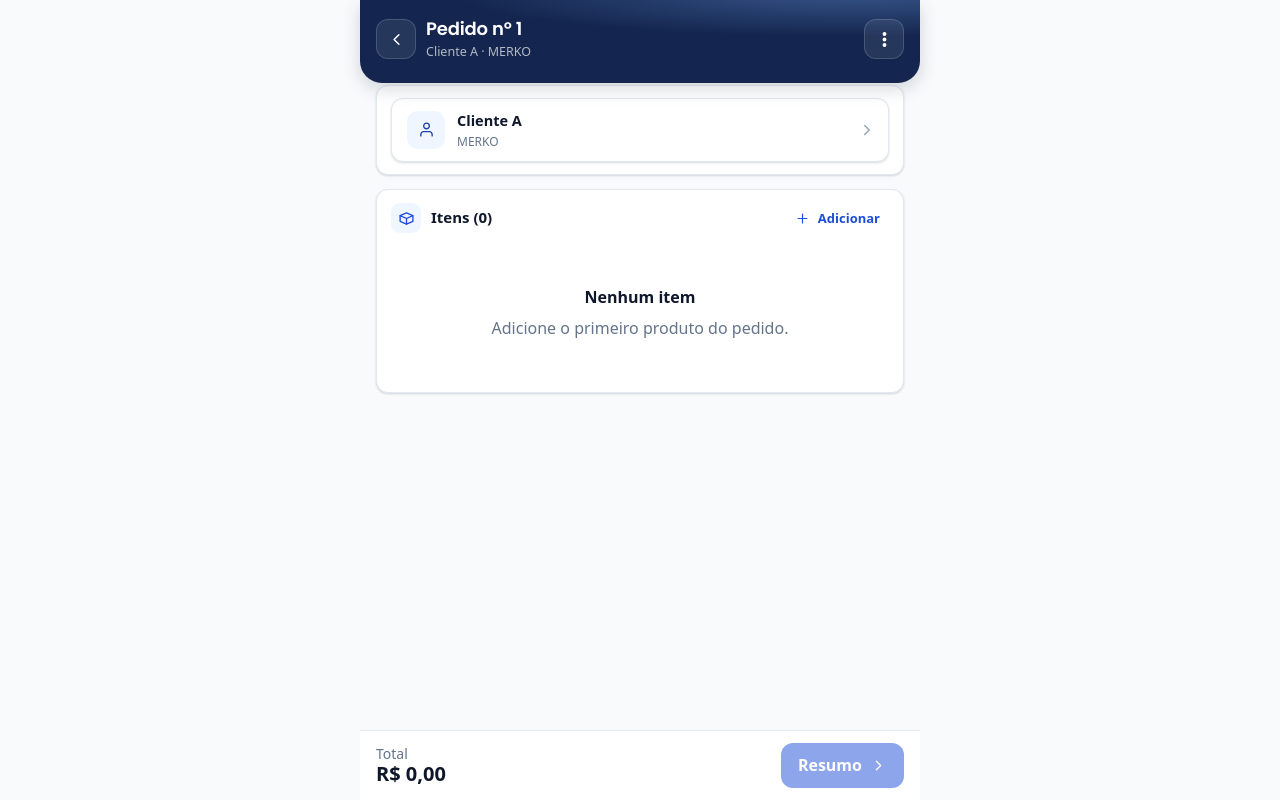
fluxo do pedido › edita marca e troca de cliente pelo botão de edição no primeiro bloco da tela do pedido
The width and height of the screenshot is (1280, 800).
Expected: the text "Cliente A" is shown, [457, 110, 522, 130]
Expected: the text "MERKO" is shown, [457, 133, 499, 150]
A linha de cliente/marca inteira abre a edicao (antes era so o glifo "✎").
Click the button "Cliente A MERKO".
click(426, 130)  # box [391, 98, 889, 162]
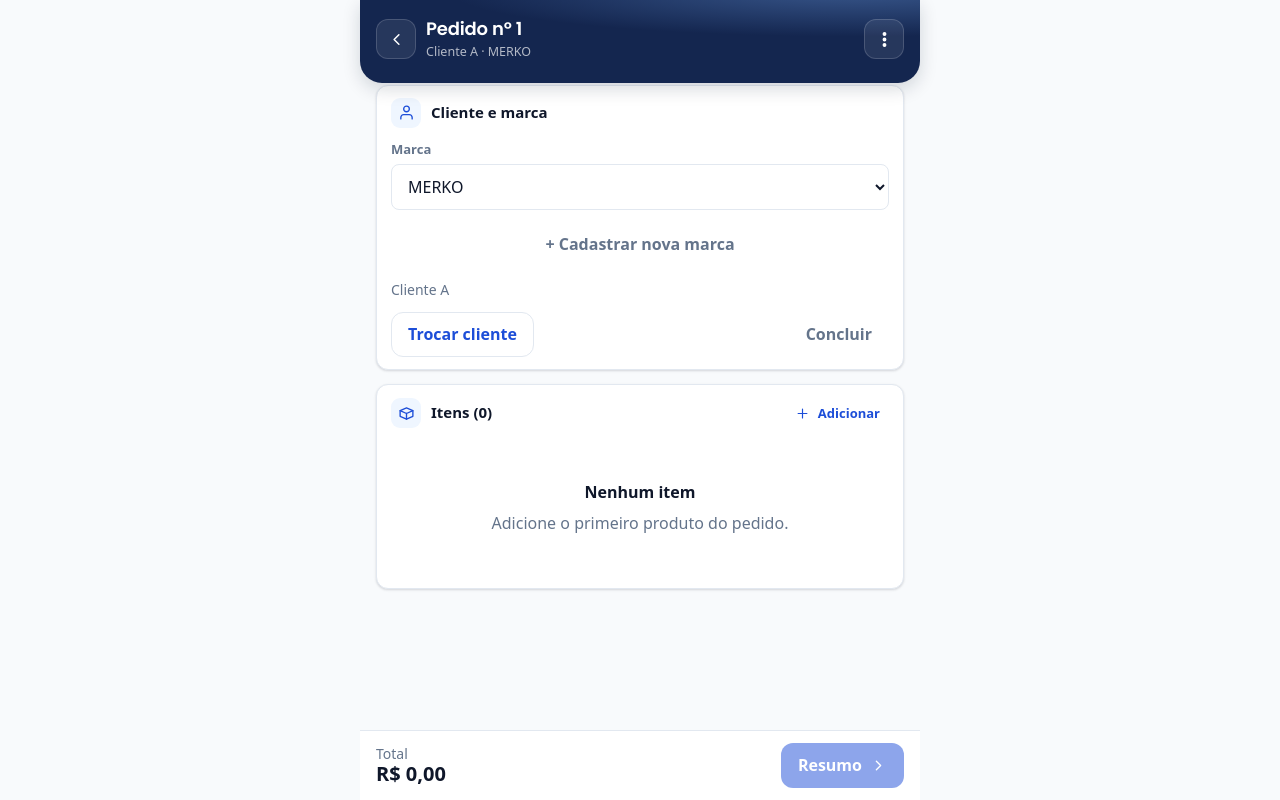
Select "ARARA AZUL" in the dropdown labelled "Marca" at point(640, 188), box [391, 164, 889, 210]
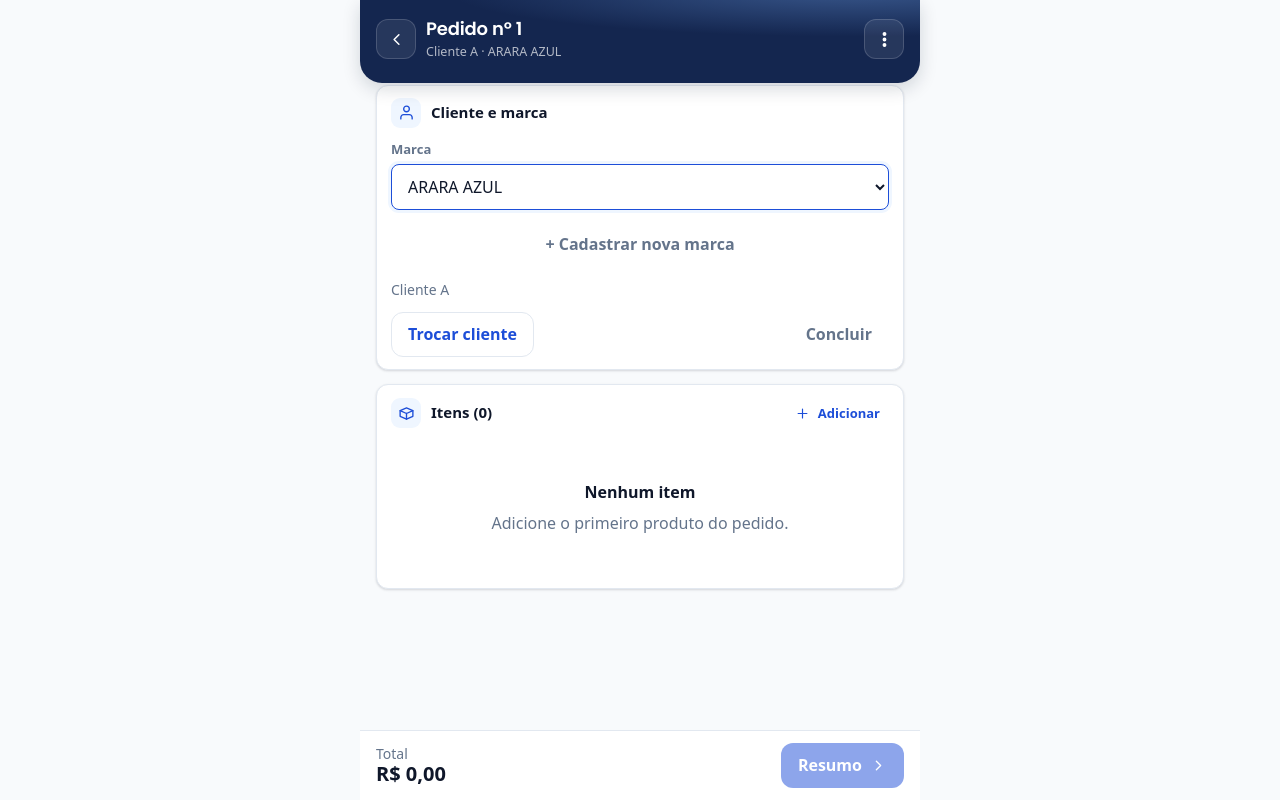
Click the button "Trocar cliente".
click(462, 335)  # box [391, 312, 534, 357]
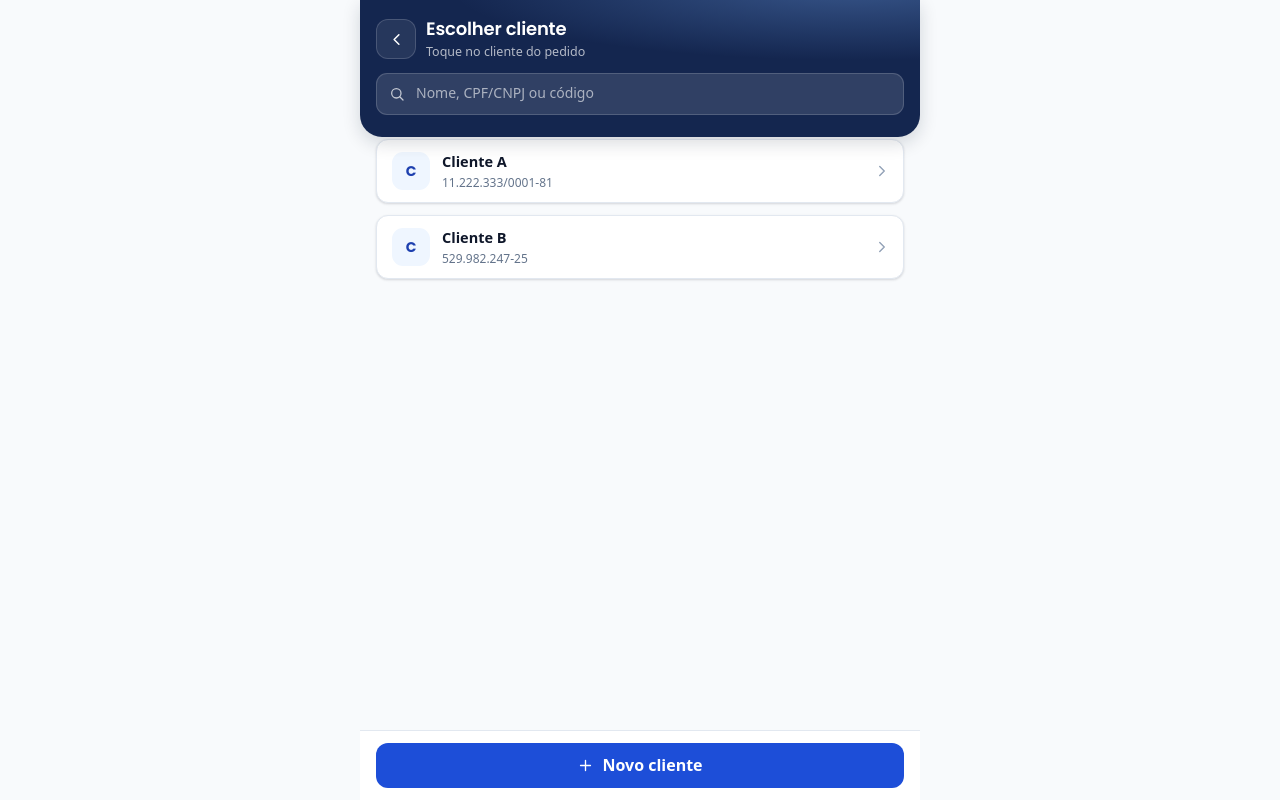
Expected: the heading "Escolher cliente" is shown, [426, 16, 566, 41]
Click the text "Cliente B".
click(474, 237)  # box [442, 227, 507, 247]
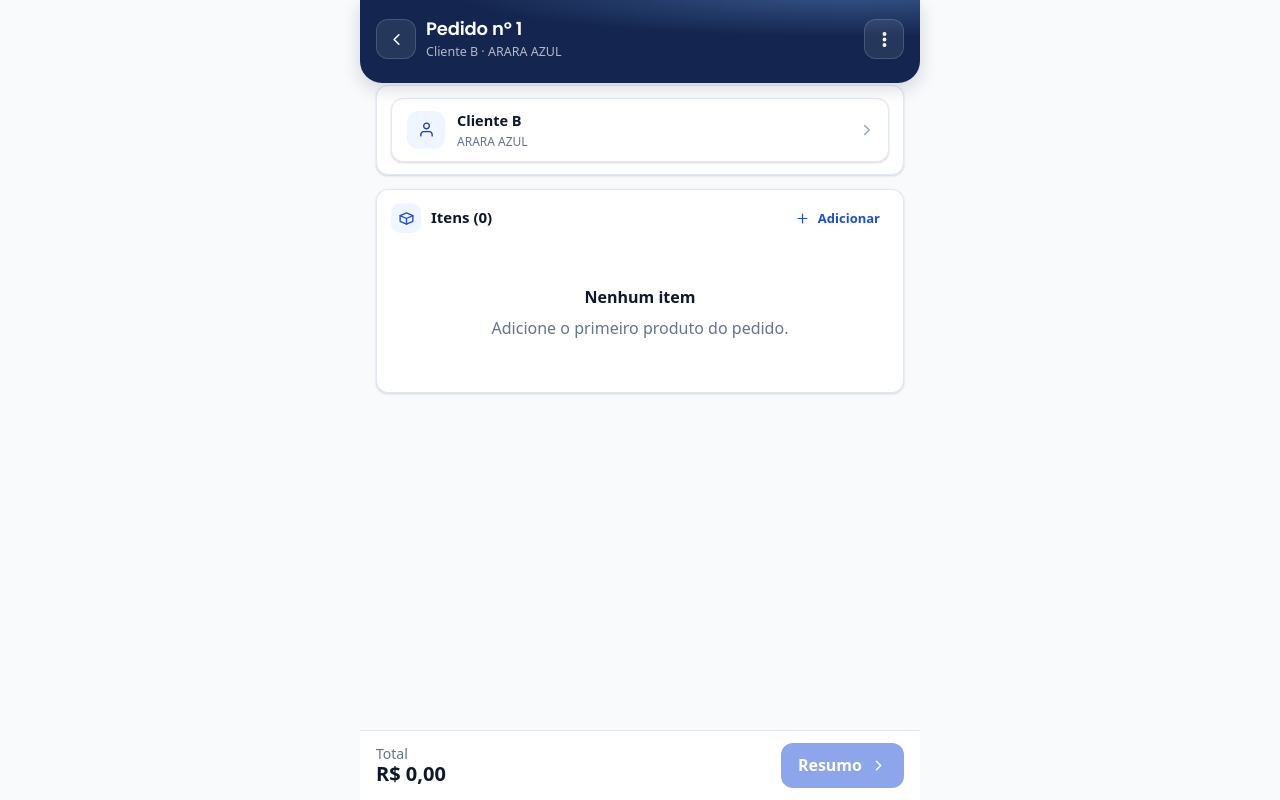
Expected: the text "Cliente B" is shown, [457, 110, 522, 130]
Expected: the button "Cliente A" is gone
Expected: the text "ARARA AZUL" is shown, [457, 133, 528, 150]
Excluir saiu do meio da tela e vive no menu de acoes da capa.
Click the button named "Mais ações do pedido".
click(884, 39)  # box [864, 19, 904, 59]
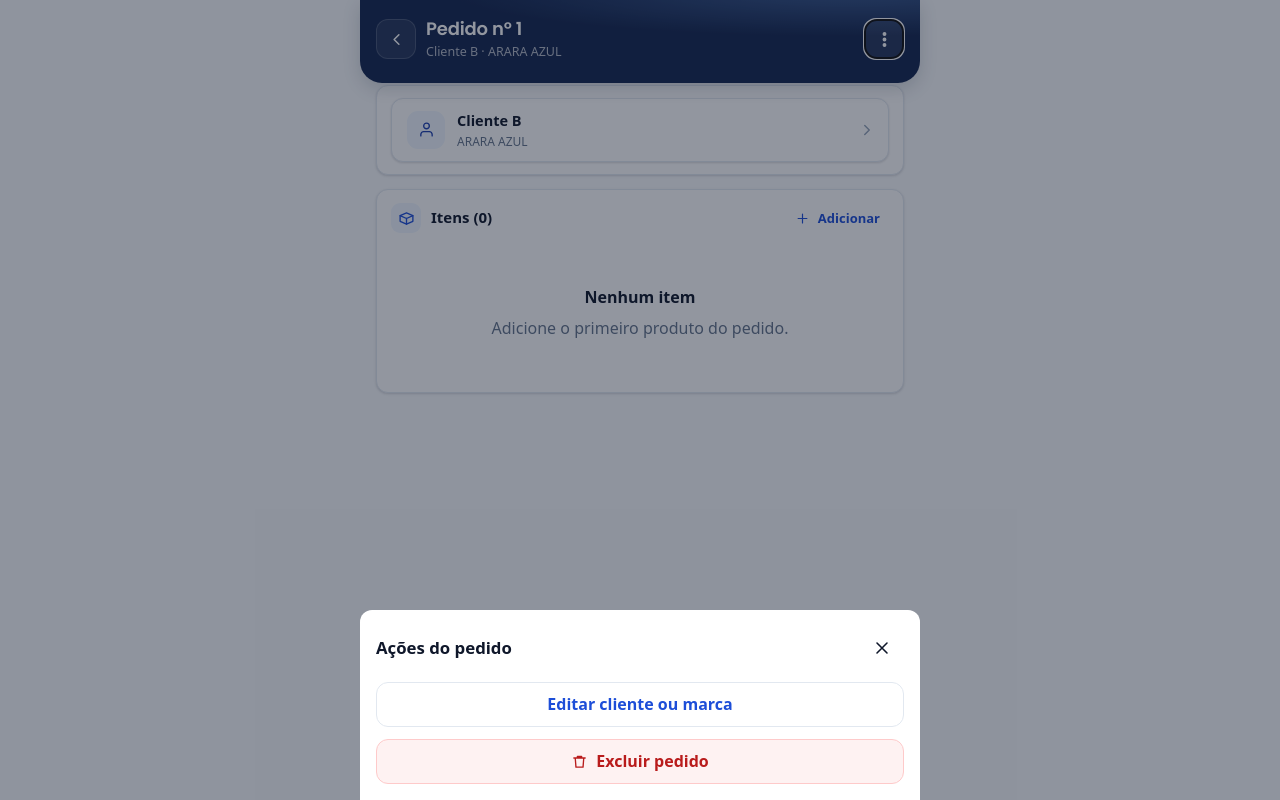
Expected: the button "Excluir pedido" is shown, [376, 739, 904, 784]
